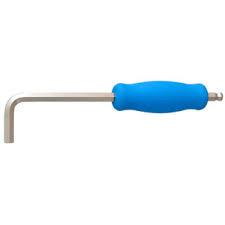wrench: (0, 78, 224, 144)
